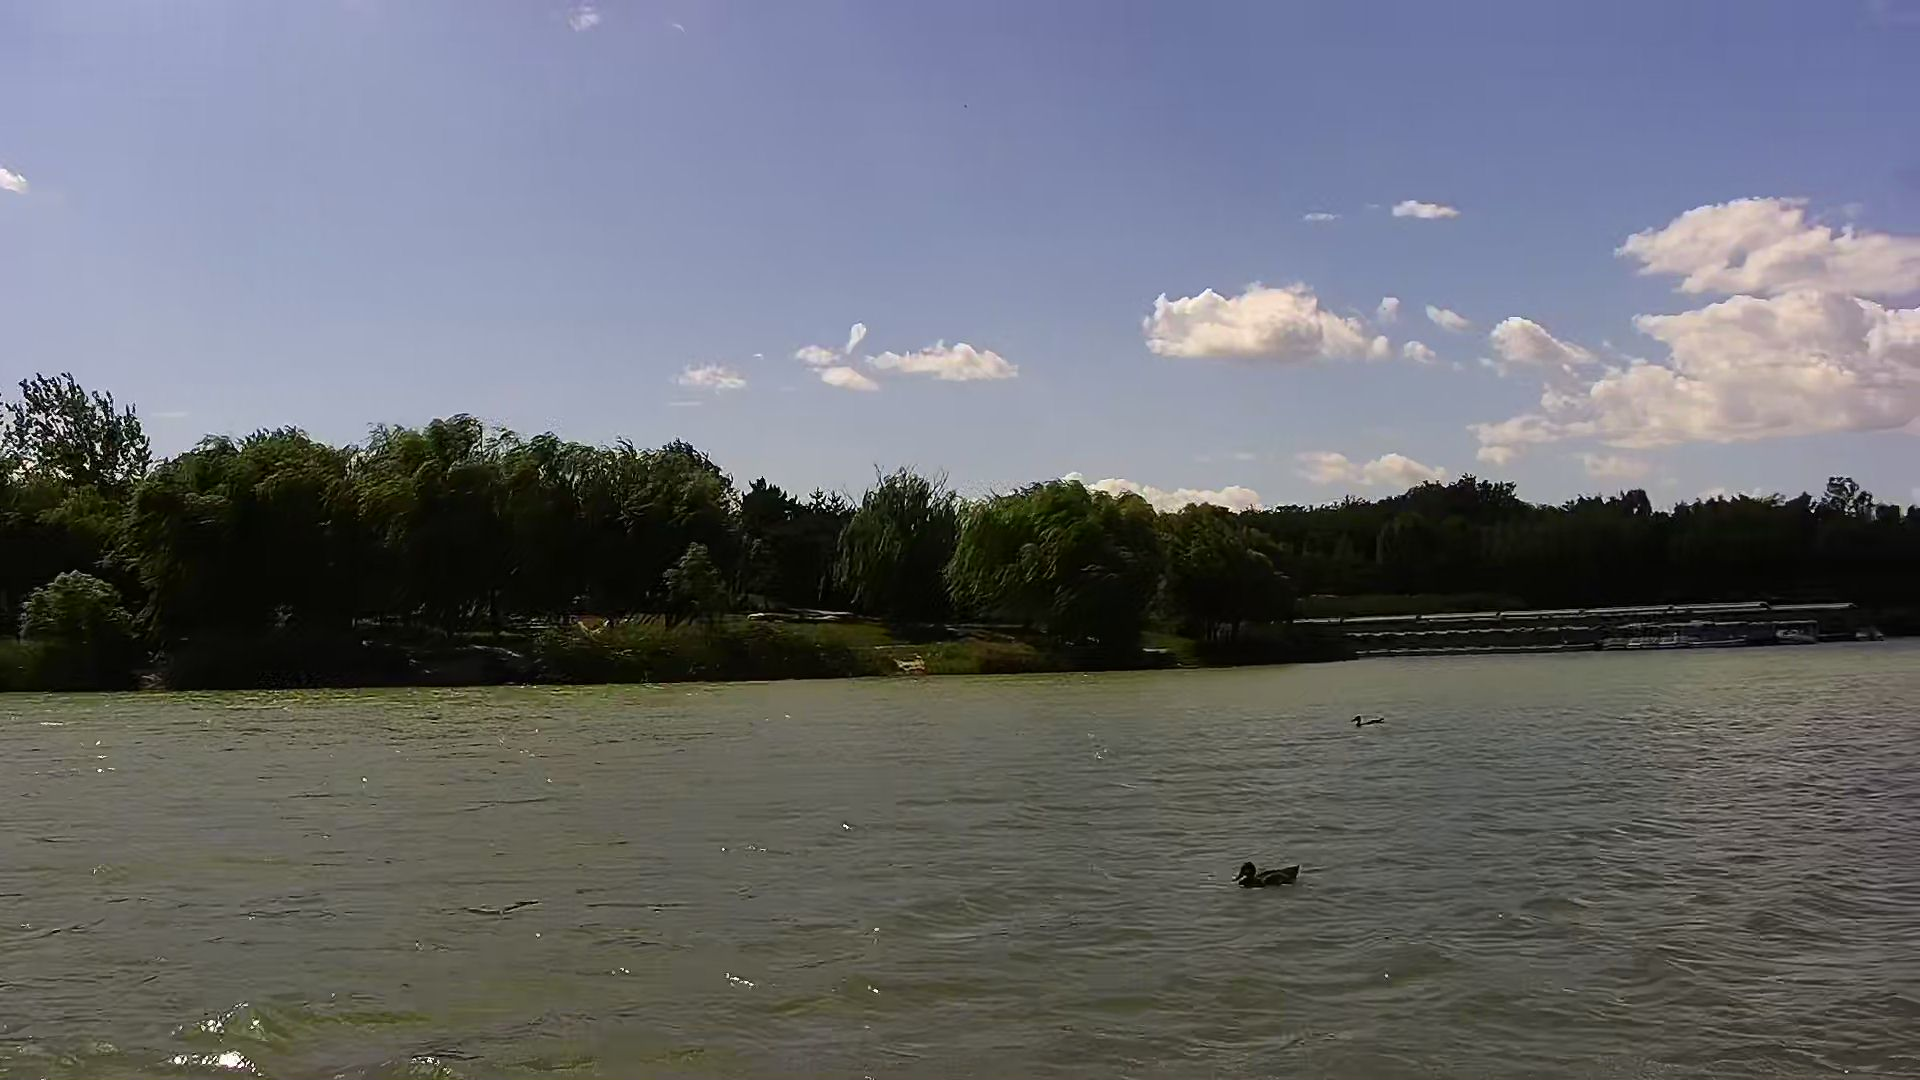animal: (1233, 856, 1305, 889), (1354, 715, 1386, 727)
harbor: (1356, 608, 1855, 653)
rock: (893, 655, 914, 673)
